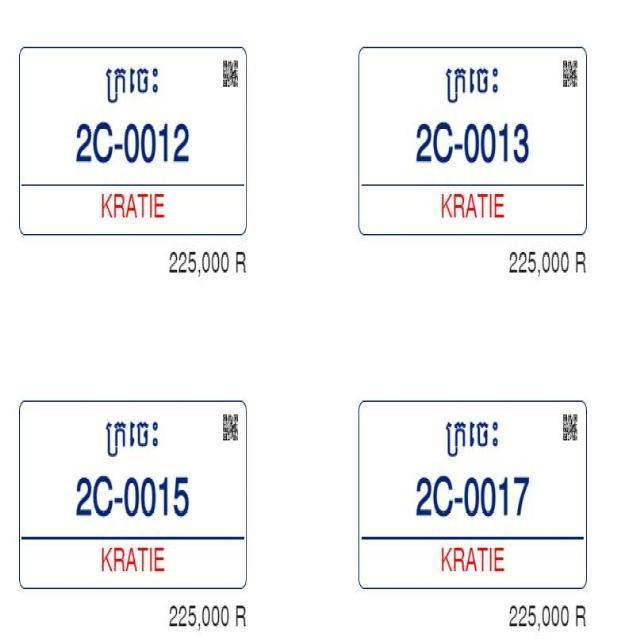Kratie: (98, 47, 172, 114), (101, 407, 166, 462), (440, 409, 507, 461), (442, 59, 503, 108)
